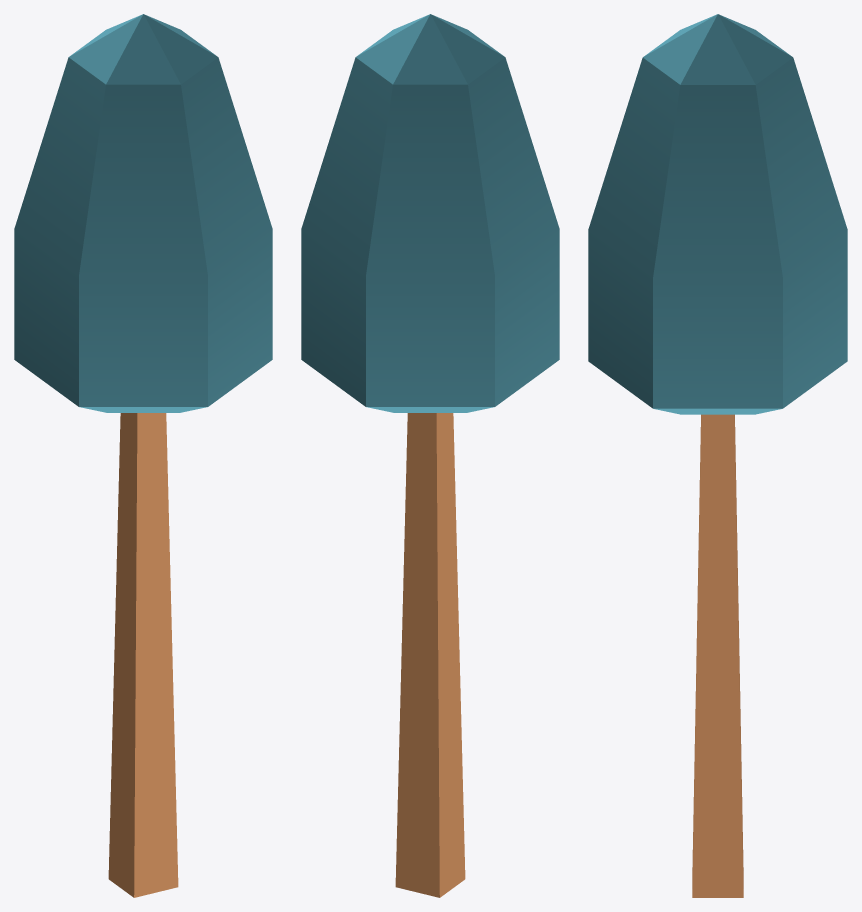
File: tree_simple_dark.obj
3 renders of one model, left to right at view 1: azimuth 30°, elevation 25°; view 2: azimuth 150°, elevation 25°; view 3: azimuth 270°, elevation 25°, orthographic.
Parts seen in each view (by area): view 1: tree_simple_dark; view 2: tree_simple_dark; view 3: tree_simple_dark.
Part boxes in pixels (bbox=[...]): tree_simple_dark: bbox=[14, 14, 272, 897]; tree_simple_dark: bbox=[301, 14, 559, 897]; tree_simple_dark: bbox=[588, 14, 847, 897].
Bounding box in the file's own units: 3.55 × 15.19 × 4.09.
